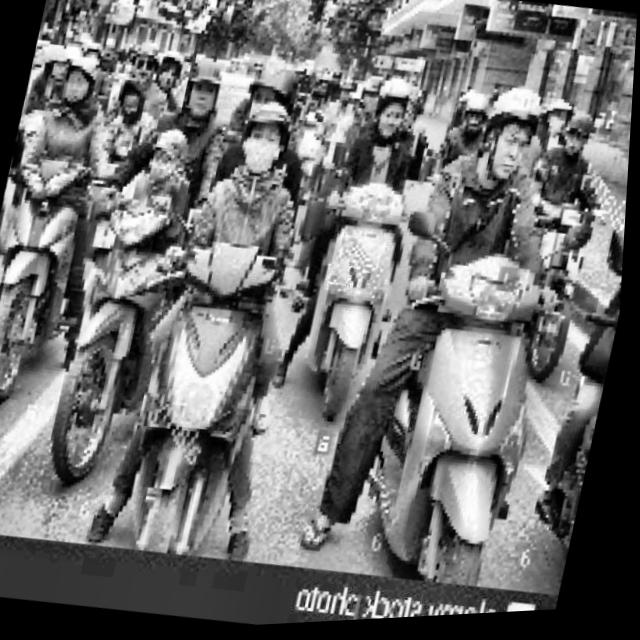motorcycle: (336, 189, 599, 605), (95, 202, 325, 571), (29, 171, 219, 494), (275, 137, 454, 424), (0, 134, 108, 409)
